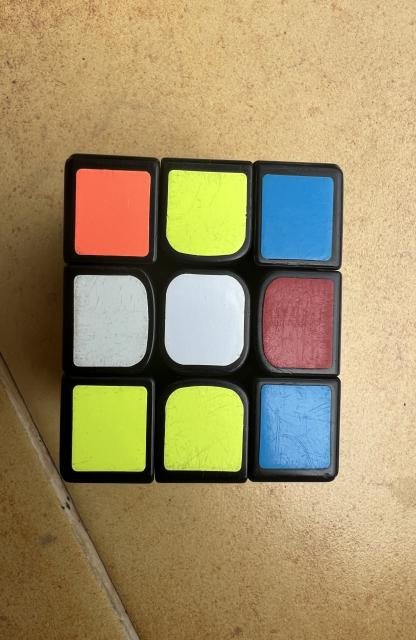Blue: (261, 174, 334, 260), (259, 384, 332, 469)
Orange: (75, 169, 151, 256)
Red: (262, 278, 334, 369)
White: (165, 274, 245, 366), (74, 275, 148, 366)
Yellow: (166, 170, 247, 256), (164, 385, 244, 471), (72, 385, 147, 471)
